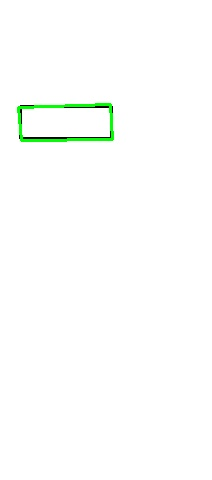line_segment: (18, 104, 114, 141)
